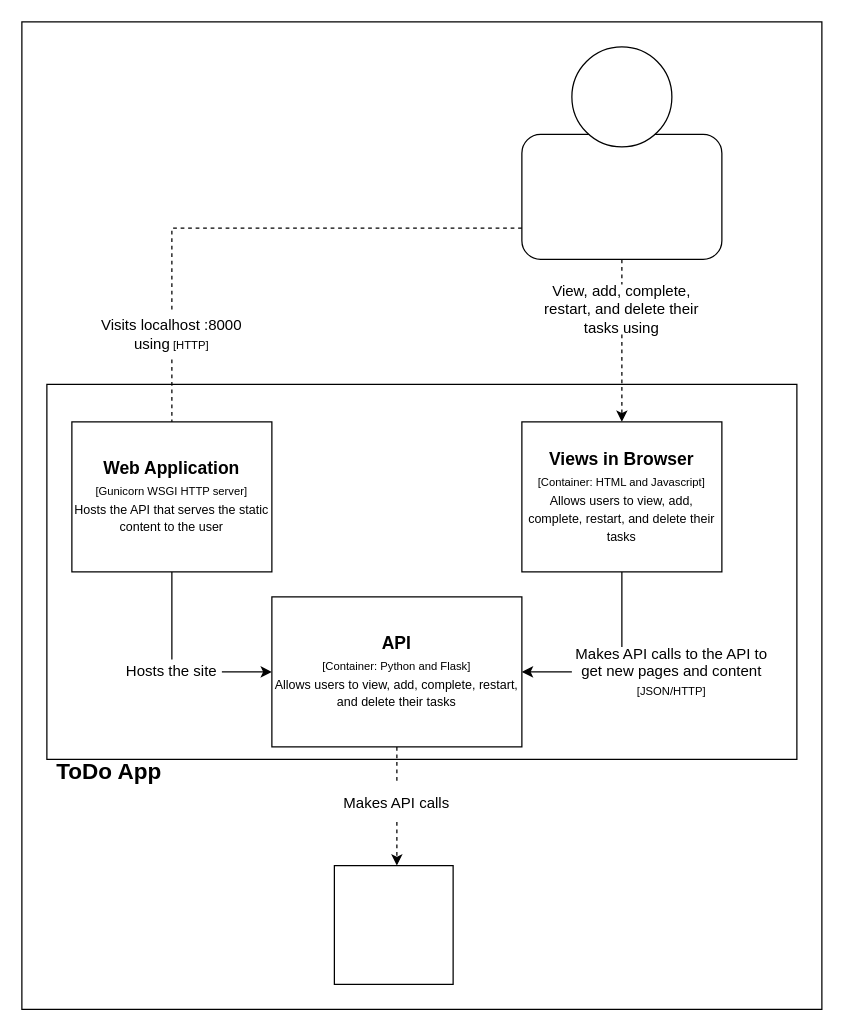
The diagram is 844 pixels wide and 1031 high, and some of its shapes have lost their labels. Each missing label, with the centre of its shape:
Trello Stores tasks in lists: [393,924]
User A user of the site, with a list of things to do: [621,196]
